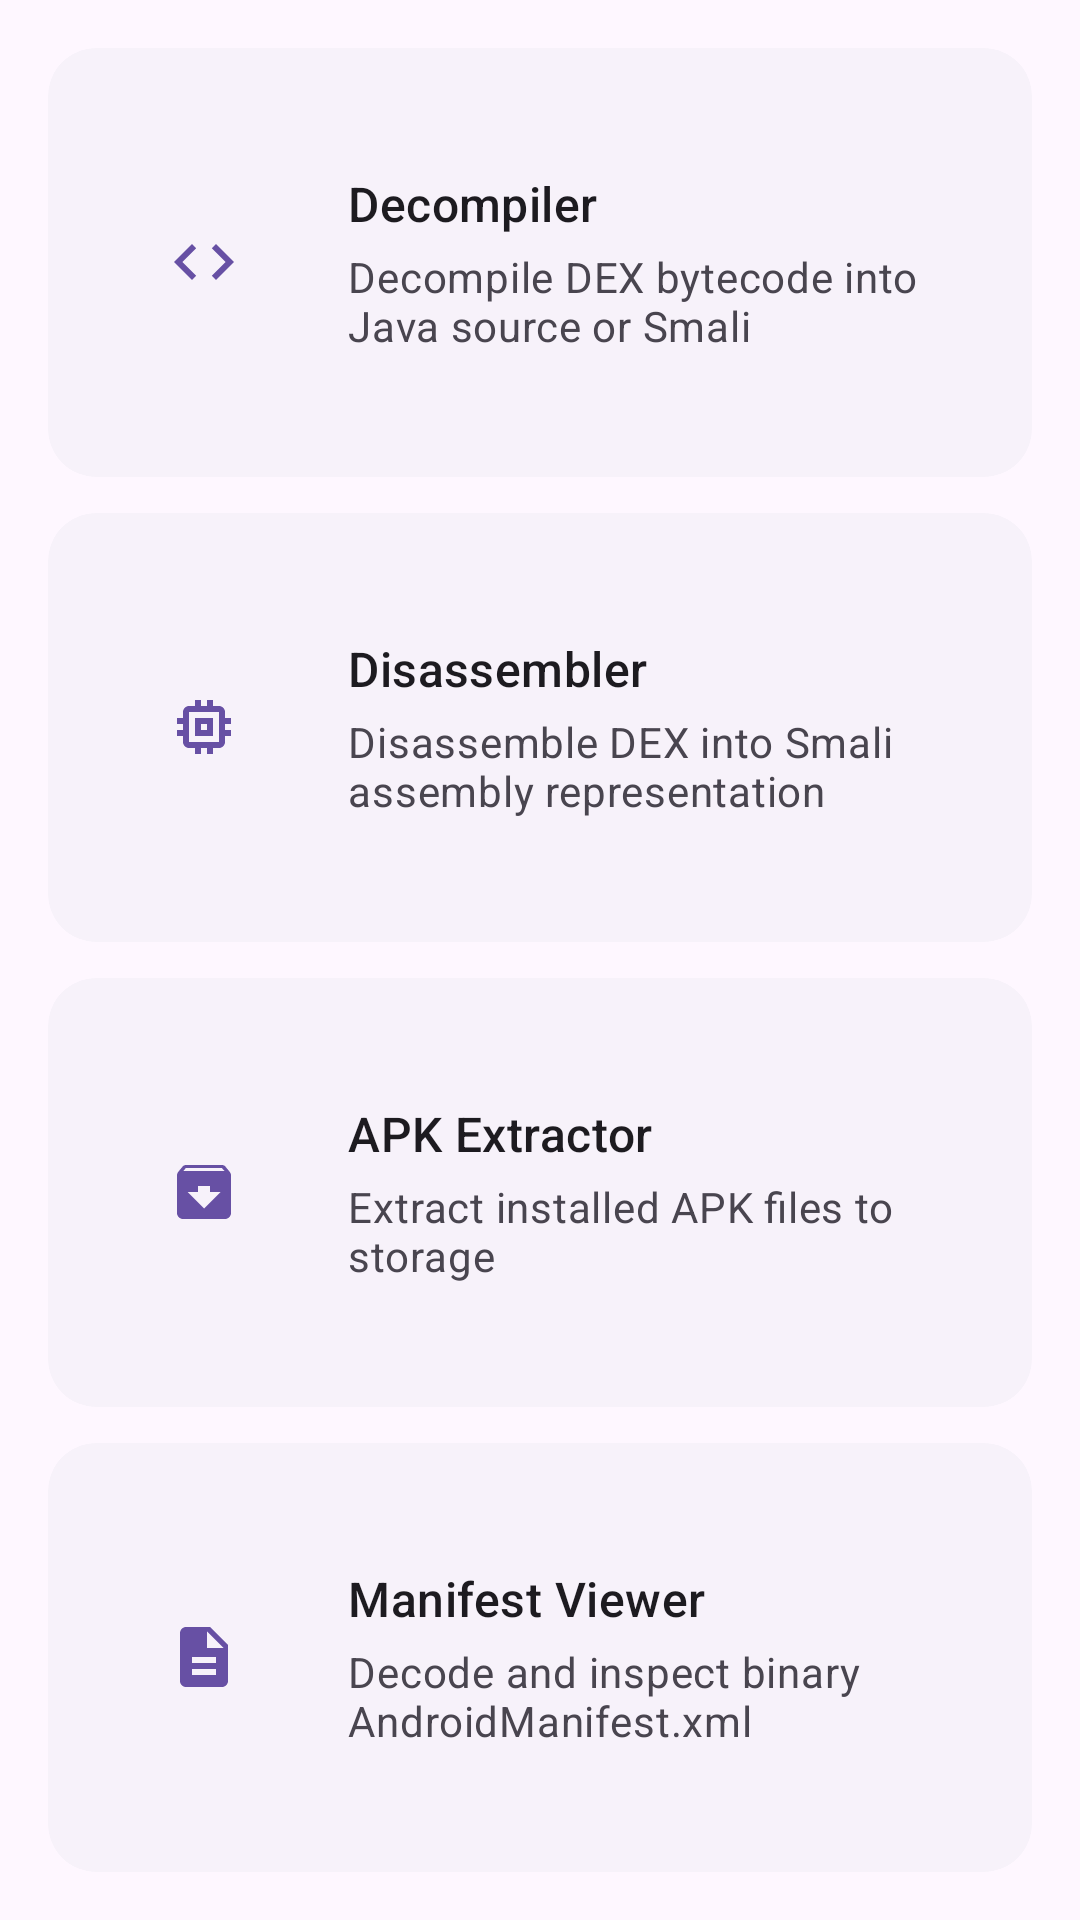

Icon bounding boxes for this 1080x1920 phone screenshot, format (x1, y1, x2, y2):
tool decompile: (174, 244, 234, 280)
tool disassemble: (177, 700, 231, 754)
tool extract: (177, 1165, 231, 1219)
tool manifest: (180, 1627, 228, 1687)
